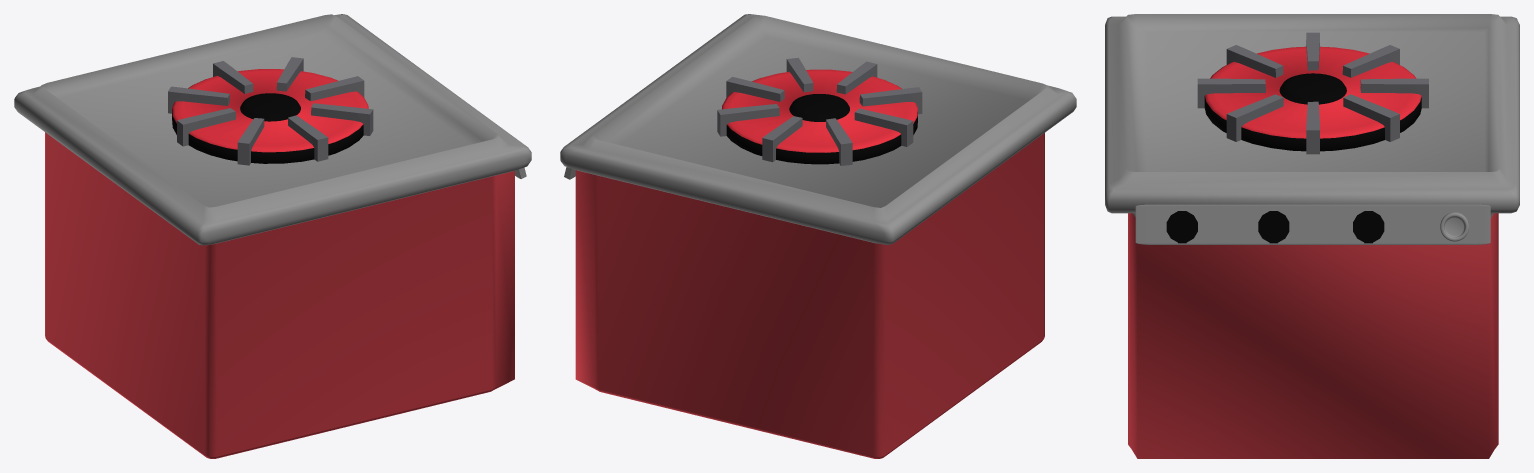
File: Stove.glb
3 views of the same model, side by side, from view 1: azimuth 30°, elevation 25°; view 2: azimuth 150°, elevation 25°; view 3: azimuth 270°, elevation 25° (orthographic). The views are drawn at different scales.
Visible parts, largest first — view 1: Cube.005; view 2: Cube.005; view 3: Cube.005.
Part boxes in pixels (x1=…): Cube.005: x1=14, y1=14, x2=531, y2=458; Cube.005: x1=560, y1=14, x2=1076, y2=458; Cube.005: x1=1105, y1=14, x2=1519, y2=458.
Bounding box in the file's own units: 0.9601 × 0.7009 × 0.8961.
